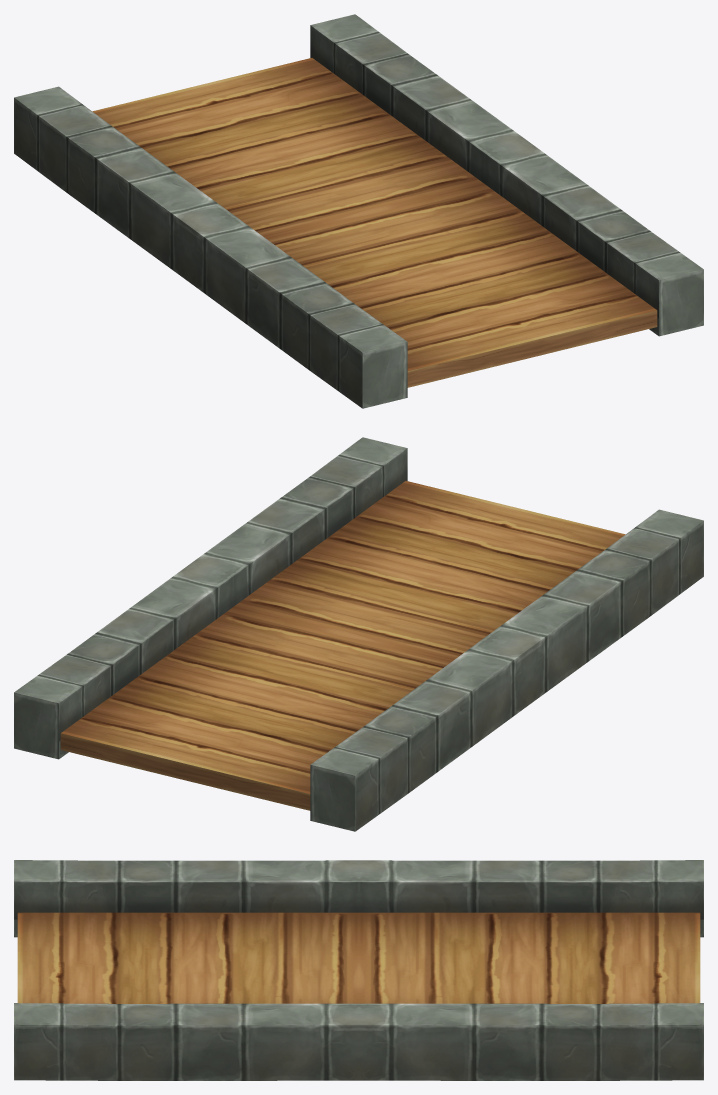
File: bridge_03b.fbx
3 views of the same model, one above another, from view 1: azimuth 30°, elevation 25°; view 2: azimuth 150°, elevation 25°; view 3: azimuth 270°, elevation 25° (orthographic).
Parts seen in each view (by area): view 1: bridge_03bMesh; view 2: bridge_03bMesh; view 3: bridge_03bMesh.
Boxes of the visible parts, x1,y1,x2,y2 form: bridge_03bMesh: (14, 14, 703, 408); bridge_03bMesh: (14, 437, 703, 831); bridge_03bMesh: (14, 860, 703, 1080).
Size of the model in its own units: 2.37 by 0.3764 by 4.19.
